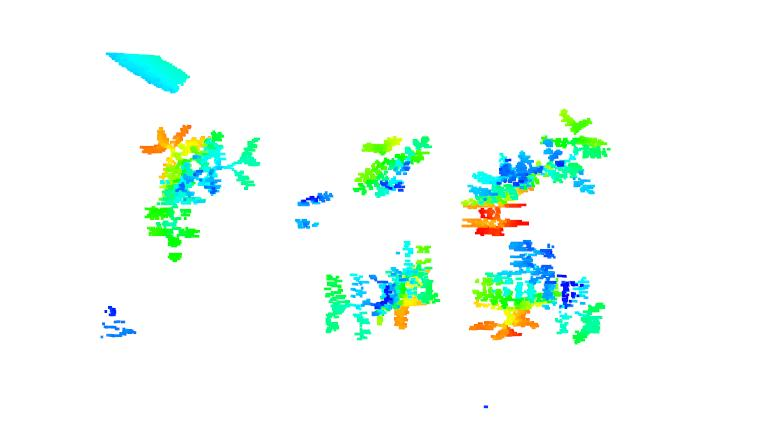chickpea: (466, 106, 614, 239), (142, 122, 262, 266), (462, 242, 611, 353), (323, 239, 442, 339), (354, 135, 437, 204), (292, 192, 334, 235), (99, 303, 142, 344)
